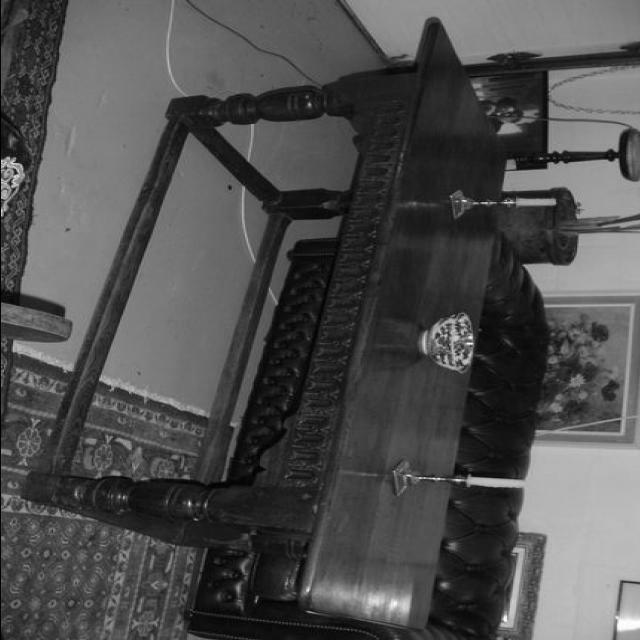table: (21, 14, 514, 628)
